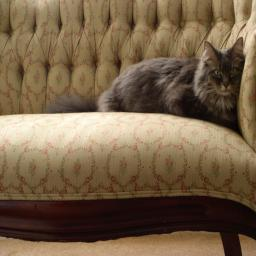catnose: (222, 81, 230, 89)
